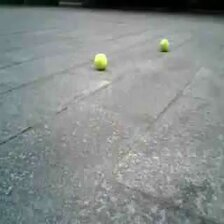tennis: (94, 54, 107, 68), (160, 38, 169, 50)
